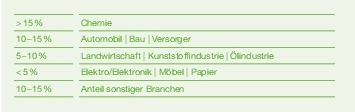table: (0, 0, 355, 112)
